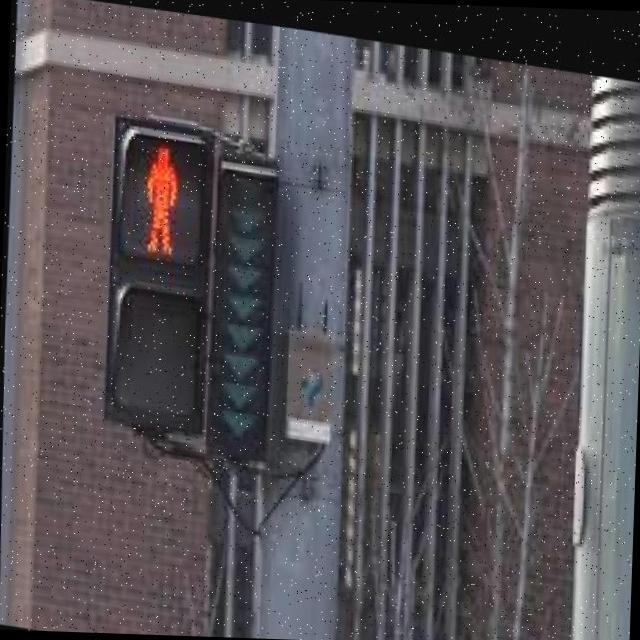redlight: (105, 111, 216, 438)
